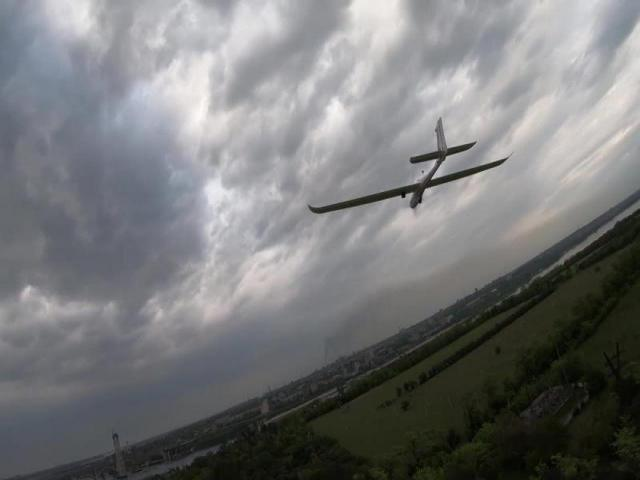hedef: (300, 122, 548, 229)
